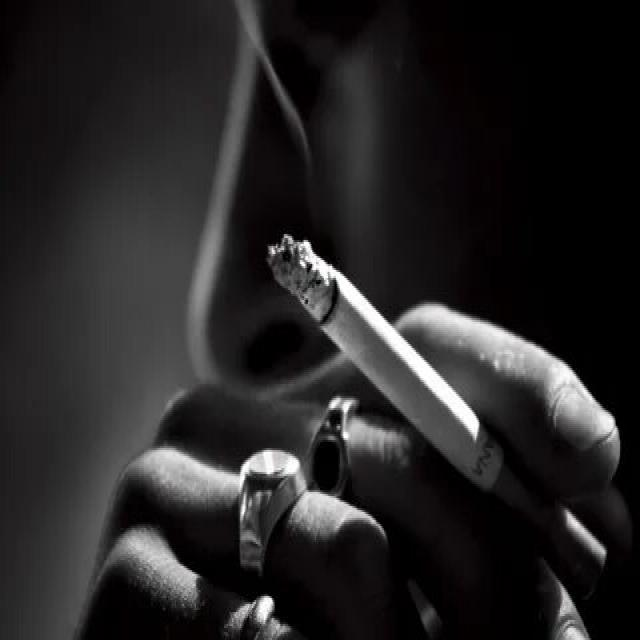smoke: (264, 220, 616, 600)
